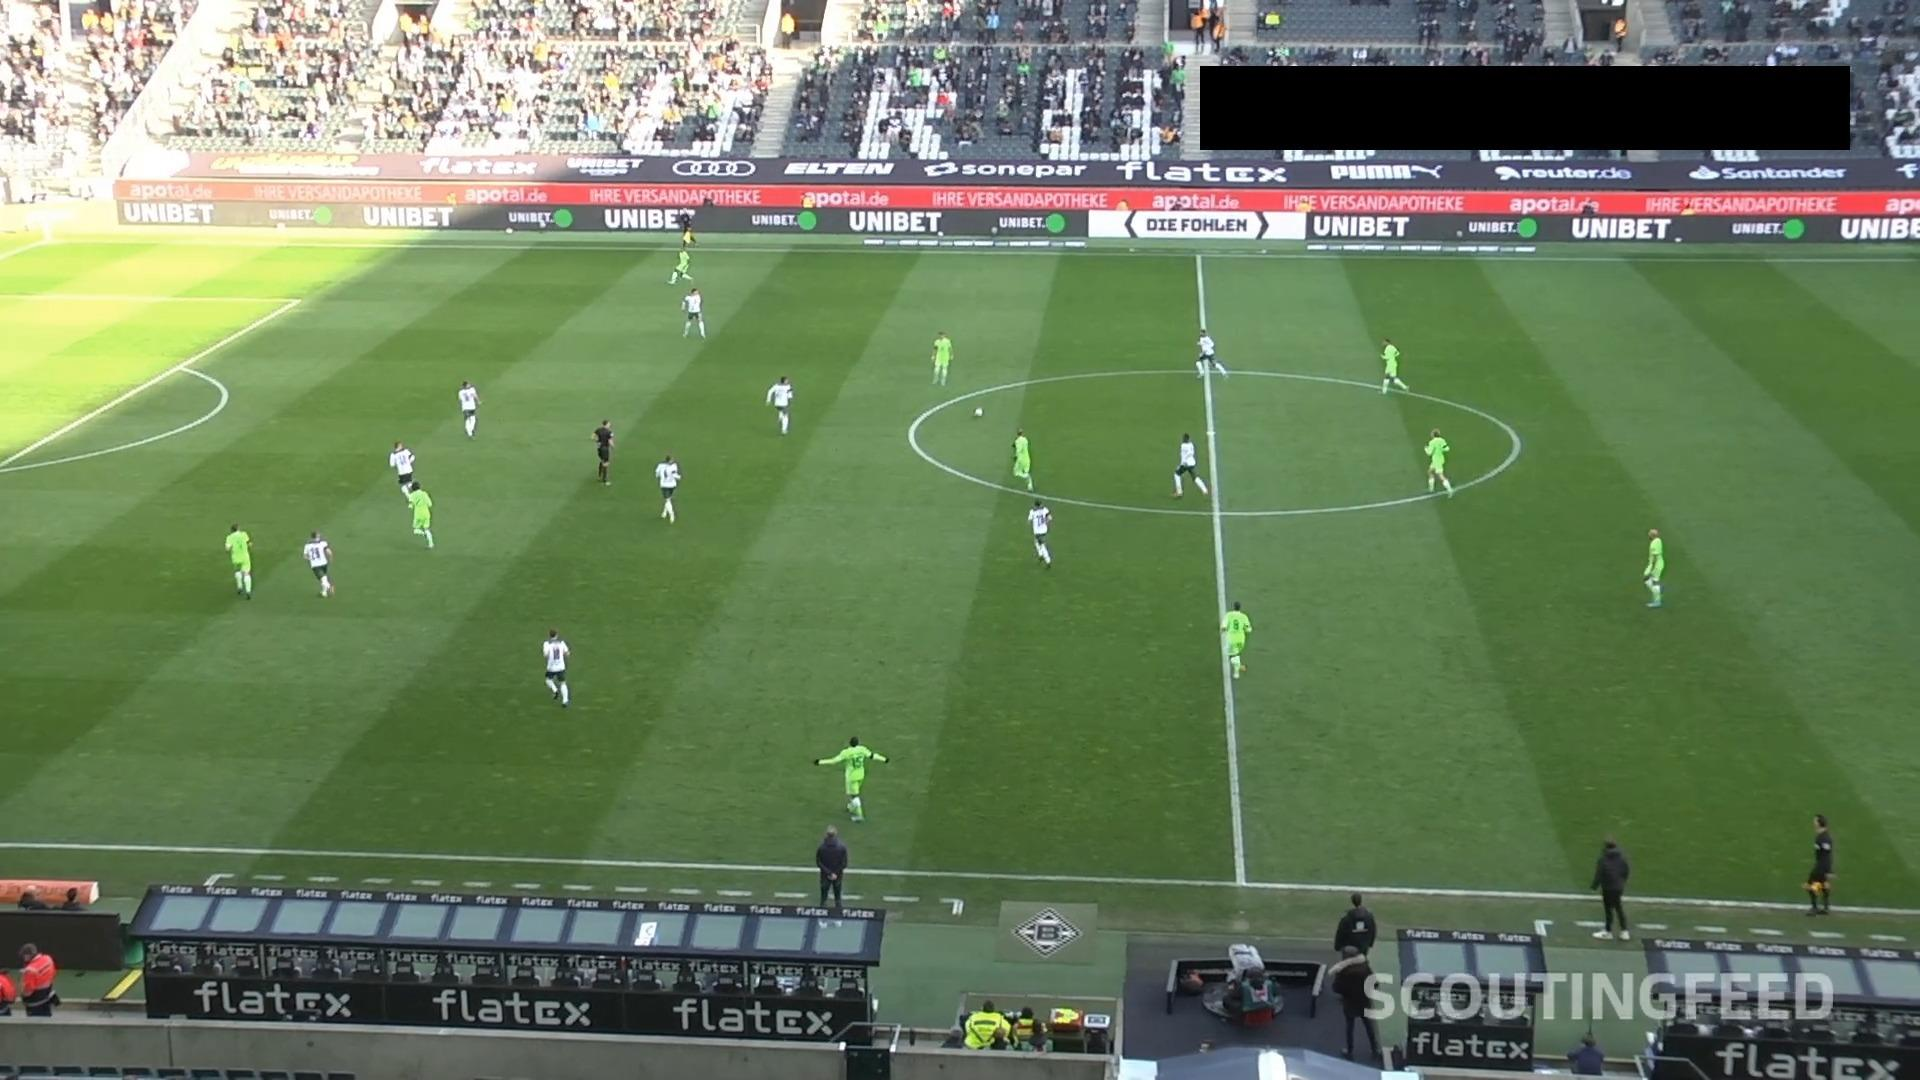ball: (972, 406, 984, 418)
